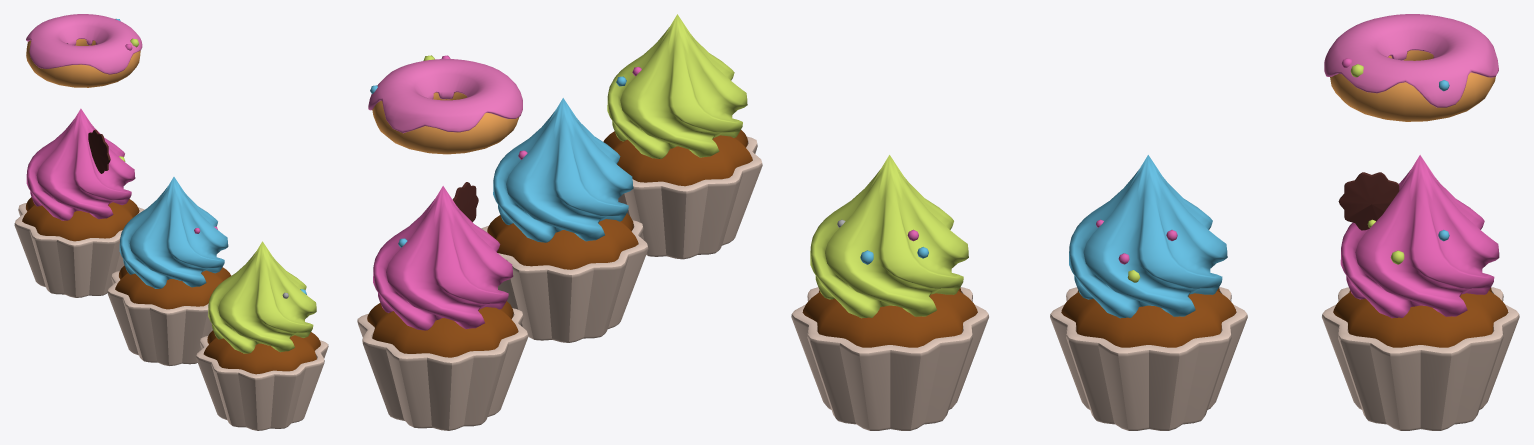
File: Cake (1).fbx
3 views of the same model, side by side, from view 1: azimuth 30°, elevation 25°; view 2: azimuth 150°, elevation 25°; view 3: azimuth 270°, elevation 25° (orthographic). The views are drawn at different scales.
Visible parts, largest first — view 1: polySurface23, polySurface11, polySurface24, polySurface13, polySurface25, polySurface33, polySurface20, polySurface10, polySurface27, polySurface18, polySurface35, polySurface29; view 2: polySurface23, polySurface24, polySurface11, polySurface25, polySurface20, polySurface13, polySurface33, polySurface27, polySurface18, polySurface10, polySurface35, polySurface29; view 3: polySurface23, polySurface11, polySurface24, polySurface20, polySurface13, polySurface25, polySurface33, polySurface18, polySurface10, polySurface27, polySurface35, polySurface29.
Boxes of the visible parts, x1,y1,x2,y2 form: polySurface23: (119,177,228,288); polySurface11: (208,241,316,353); polySurface24: (26,108,135,220); polySurface13: (196,336,328,430); polySurface25: (14,203,144,297); polySurface33: (26,14,142,74); polySurface20: (107,271,231,365); polySurface10: (203,330,320,374); polySurface27: (22,197,139,241); polySurface18: (115,265,230,309); polySurface35: (26,39,140,87); polySurface29: (88,129,110,173); polySurface23: (493,98,633,242); polySurface24: (373,186,513,330); polySurface11: (607,14,747,158); polySurface25: (357,308,528,430); polySurface20: (481,220,648,342); polySurface13: (618,136,762,259); polySurface33: (368,59,522,133); polySurface27: (367,301,518,357); polySurface18: (487,213,638,269); polySurface10: (603,130,752,186); polySurface35: (372,92,519,154); polySurface29: (452,182,478,222); polySurface23: (1069,155,1227,318); polySurface11: (810,155,968,318); polySurface24: (1340,155,1499,318); polySurface20: (1050,287,1247,430); polySurface13: (791,287,988,430); polySurface25: (1322,287,1519,430); polySurface33: (1324,14,1498,107); polySurface18: (1061,288,1236,347); polySurface10: (802,288,977,347); polySurface27: (1333,288,1508,347); polySurface35: (1330,50,1495,121); polySurface29: (1338,172,1399,230).
Size of the model in its own units: 1.8 by 3.85 by 6.95.
